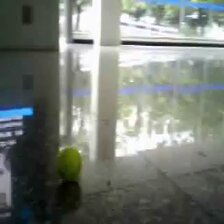tennis: (58, 148, 81, 178)
